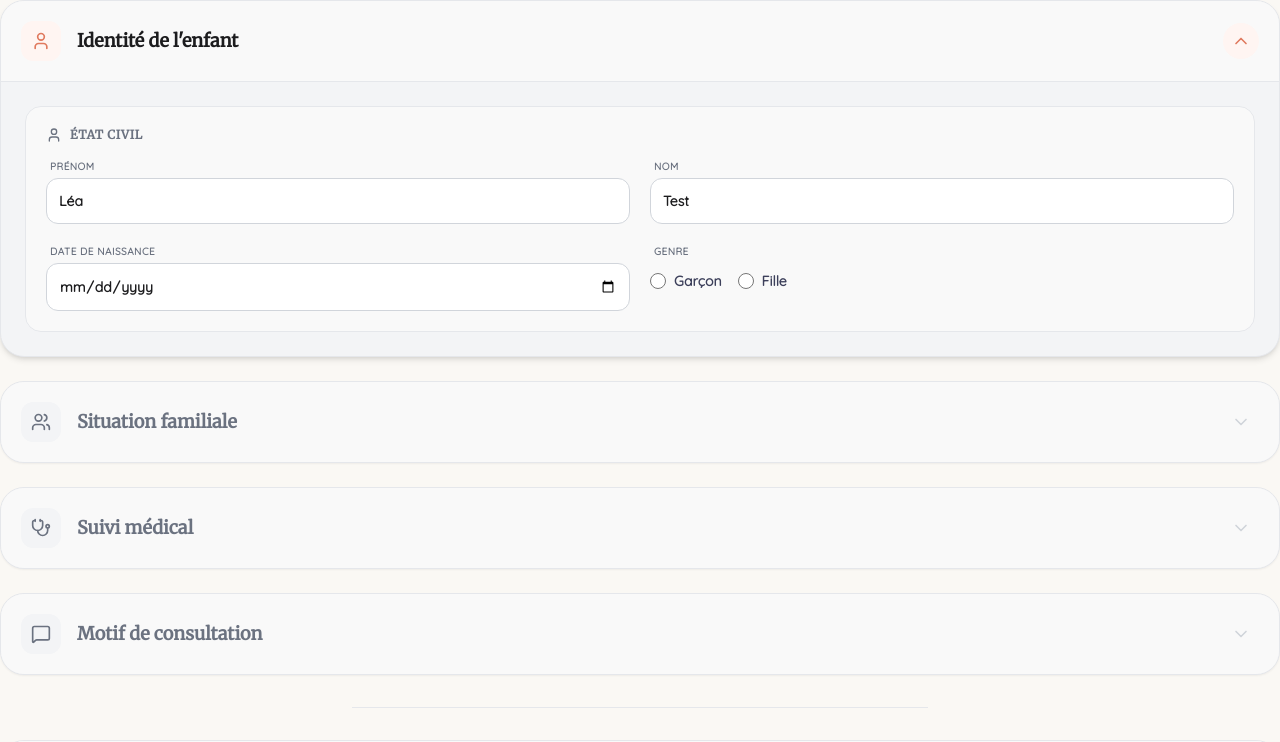
Test: SharedQuestionnaire : bloc « Bilans et suivis extérieurs » (#37) › porte le nouveau titre
The image size is (1280, 742).
Click the button "Suivi médical". click: (41, 528)
box: [1,488,1279,568]
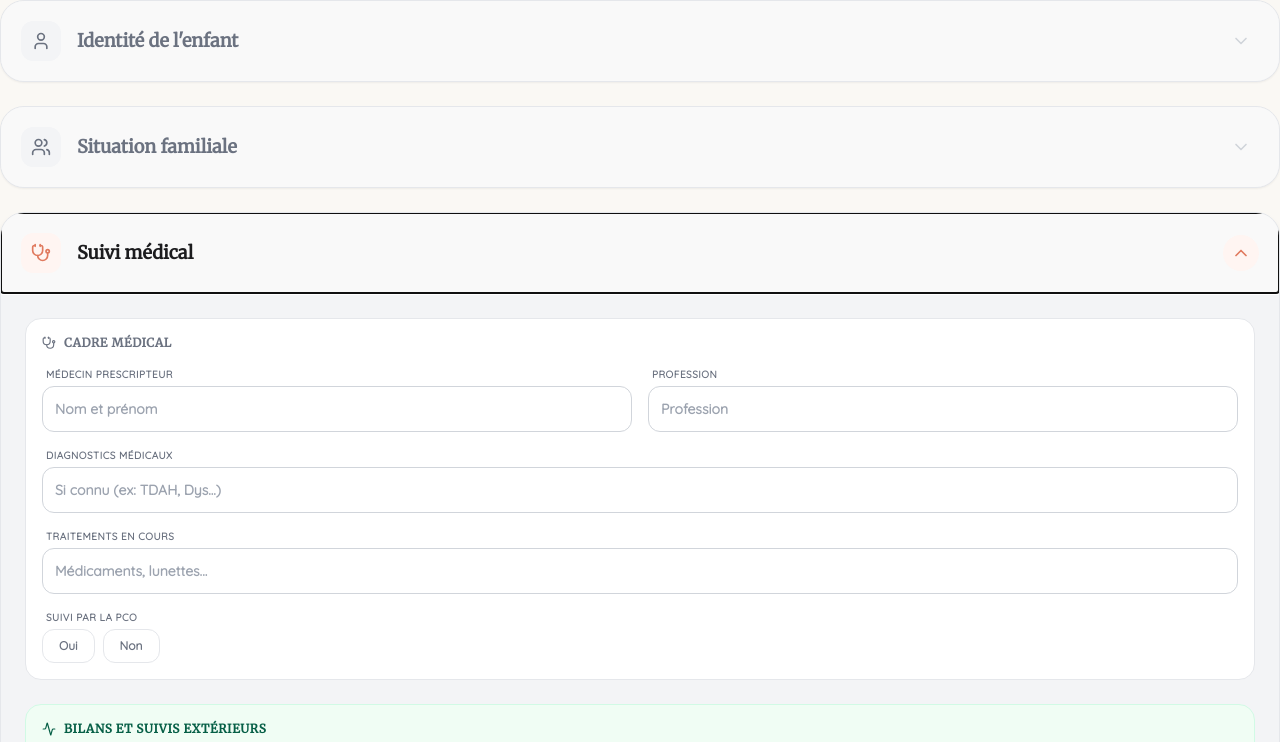
Result: the heading "Bilans et suivis extérieurs" is shown at [42,721,266,737]
